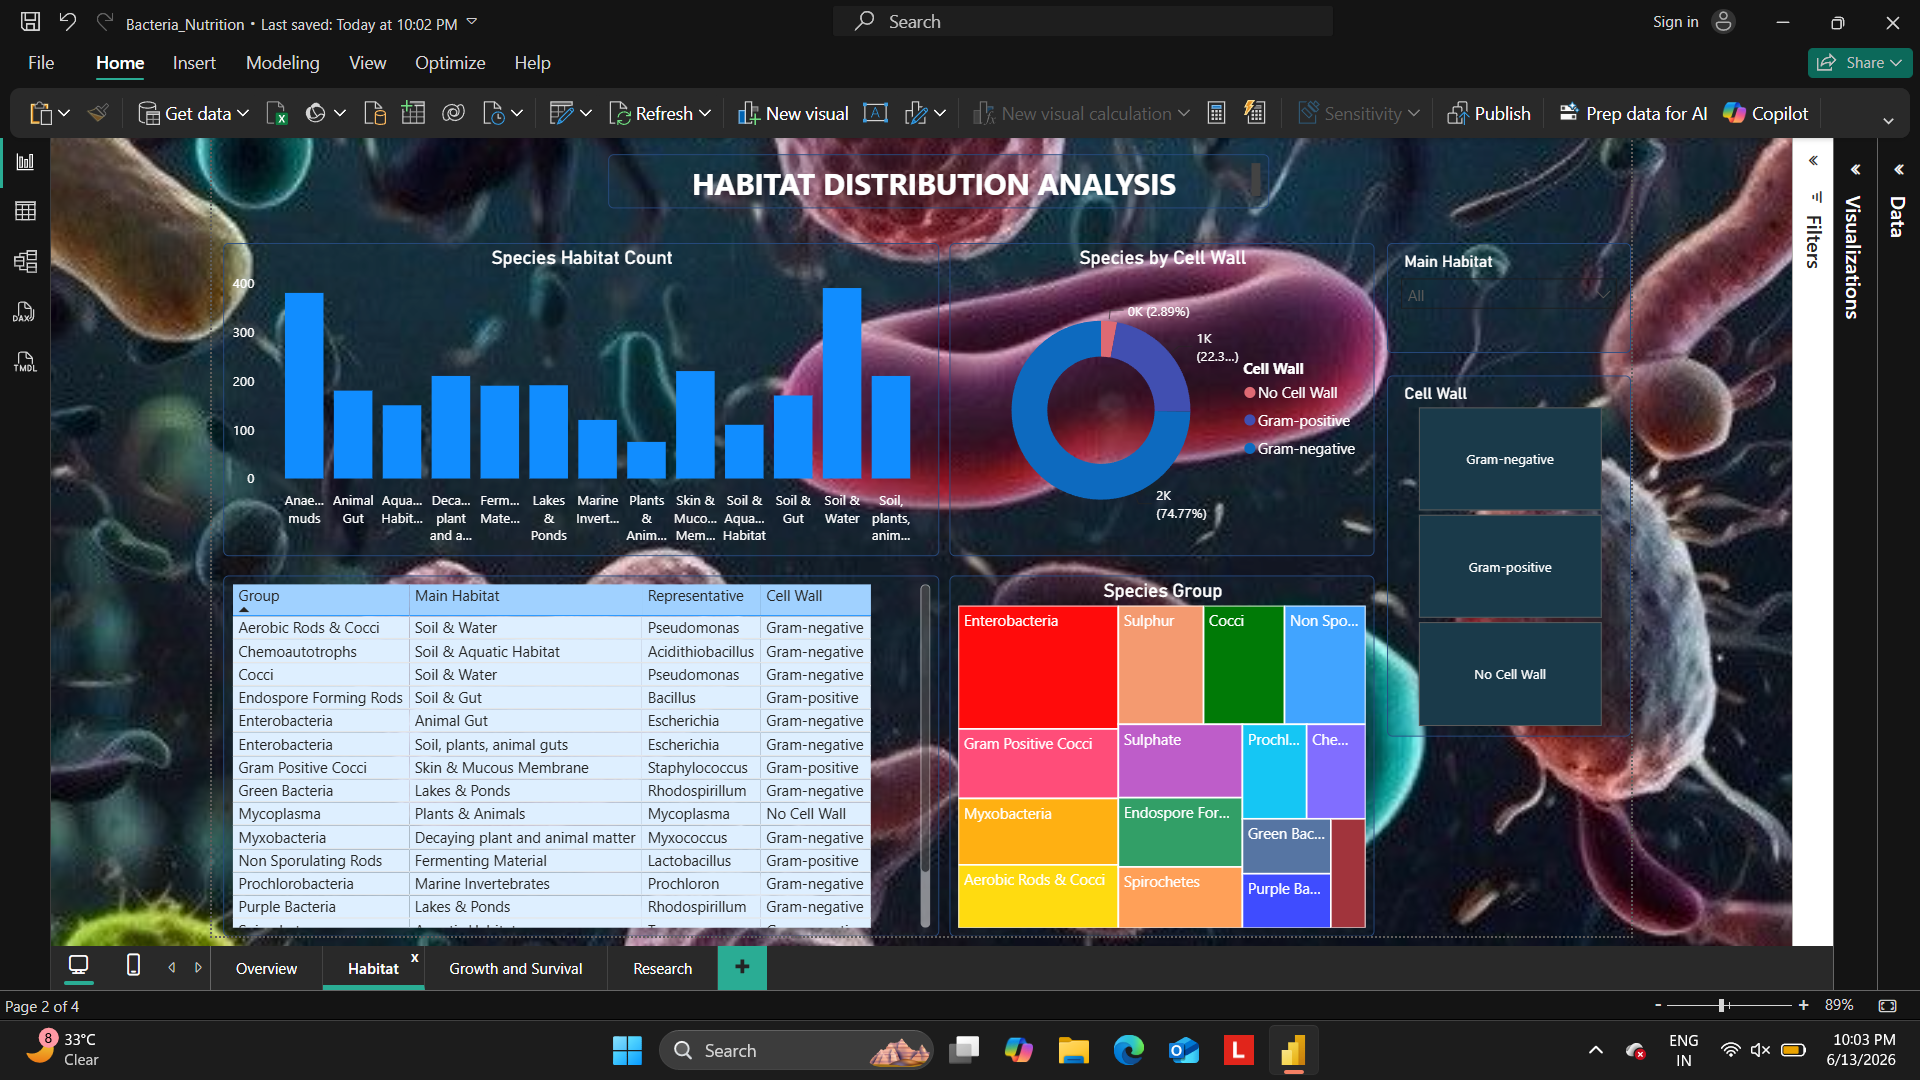

The dashboard page shown, as its layout file describes it:
{"tool":"powerbi","page":{"name":"Habitat","canvas":[1280,720],"ordinal":1},"visuals":[{"type":"textbox","box":[357,14.9,595.9,48.5],"z":0},{"type":"clusteredColumnChart","title":"Species Habitat Count","fields":{"Category":["Sheet1.Main Habitat"],"Y":["Sum(Sheet1.Species_Count)"]},"box":[10,94.5,645.6,282.4],"z":1000},{"type":"treemap","title":"Species Group","fields":{"Group":["Sheet1.Group"],"Values":["Sum(Sheet1.Species_Count)"]},"box":[665.5,394.3,383.1,325.9],"z":2000},{"type":"tableEx","fields":{"Values":["Sheet1.Group","Sheet1.Main Habitat","Sheet1.Representative","Sheet1.Cell Wall"]},"box":[10,394.3,645.6,325.9],"z":3000},{"type":"donutChart","title":"Species by Cell Wall","fields":{"Y":["Sum(Sheet1.Species_Count)"],"Category":["Sheet1.Cell Wall"]},"box":[665.5,94.5,383.1,282.4],"z":4000},{"type":"slicer","fields":{"Values":["Sheet1.Main Habitat"]},"box":[1059.9,94.5,220.2,99.5],"z":5000},{"type":"slicer","fields":{"Values":["Sheet1.Cell Wall"]},"box":[1059.9,214,220.2,325.9],"z":6000}]}

Visuals, with their boxes on the page's 1280x720 design canvas (x1, y1, x2, y2). These are canvas units, not pixel positions in the 1920x1080 screenshot, which may show the page scaled, cropped or inside an application window:
textbox: left=357, top=15, right=953, bottom=63
"Species Habitat Count" clusteredColumnChart: left=10, top=94, right=656, bottom=377
"Species Group" treemap: left=666, top=394, right=1049, bottom=720
tableEx - Sheet1.Group x Sheet1.Main Habitat: left=10, top=394, right=656, bottom=720
"Species by Cell Wall" donutChart: left=666, top=94, right=1049, bottom=377
slicer - Sheet1.Main Habitat: left=1060, top=94, right=1280, bottom=194
slicer - Sheet1.Cell Wall: left=1060, top=214, right=1280, bottom=540
